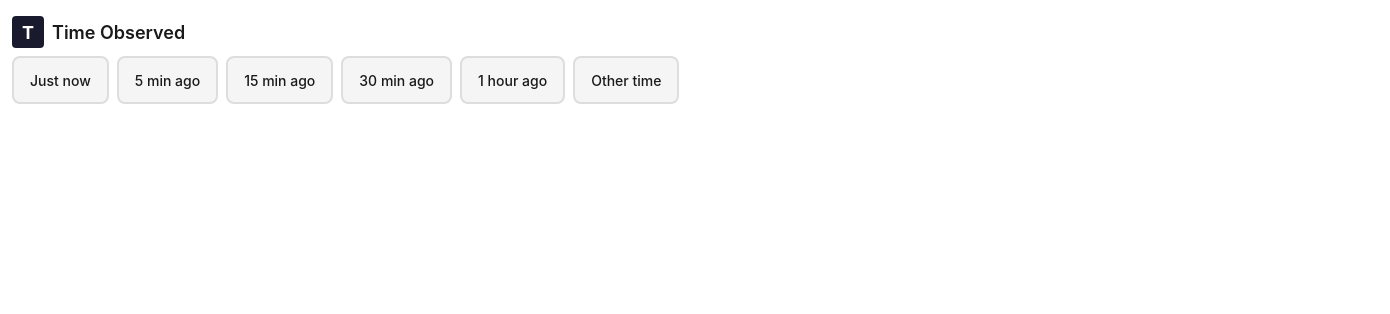
Test: TimePicker › Manual input › reveals date/time inputs when other time clicked
Expected: the field labelled "date" is not shown
# Click other time button
Click the button "Other time".
click(626, 80)  # box top-left (573, 56), bottom-right (680, 104)
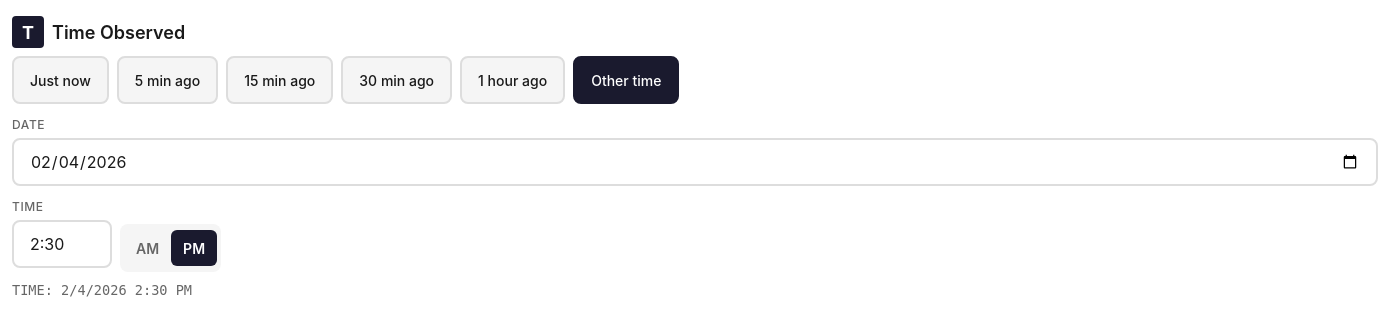
Expected: the date field labelled "Date" is shown, top-left (12, 138), bottom-right (1378, 186)
